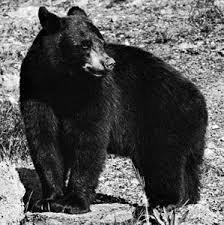bear: (20, 7, 208, 214)
